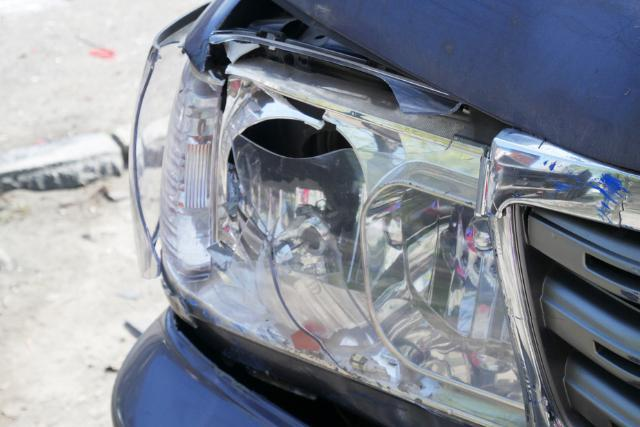Light: (160, 54, 525, 427)
